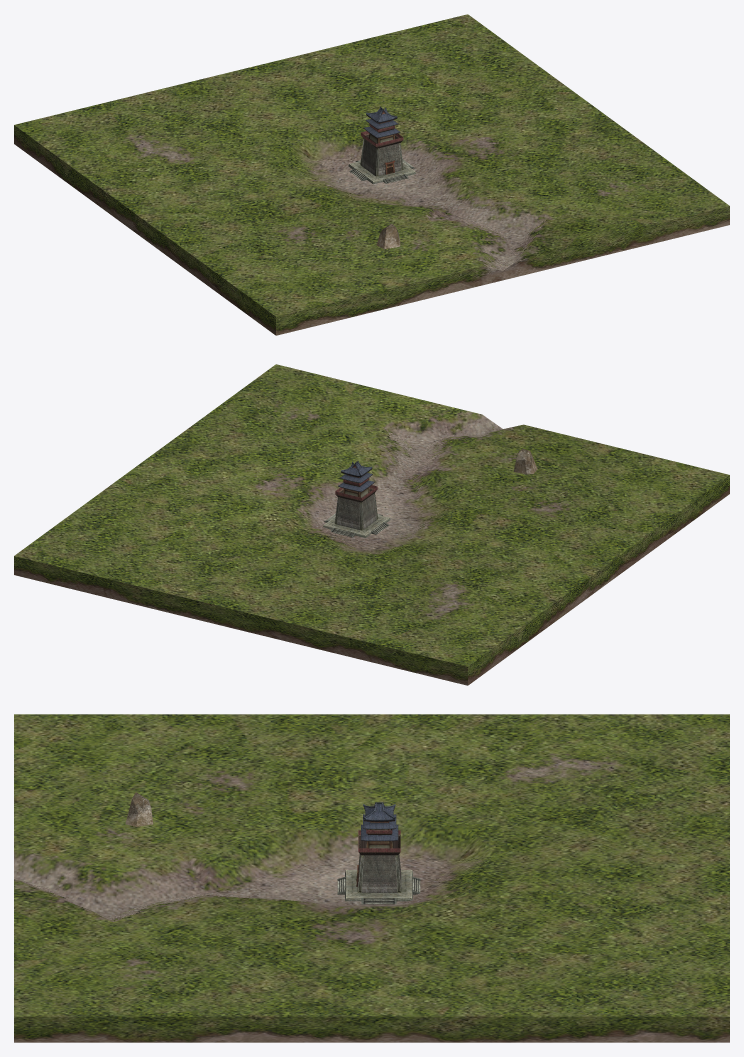
The model's file is map007.FBX.
3 renders of one model, top to bottom at view 1: azimuth 30°, elevation 25°; view 2: azimuth 150°, elevation 25°; view 3: azimuth 270°, elevation 25°, orthographic. The views are drawn at different scales.
Visible parts, largest first — view 1: map007, house006; view 2: map007, house006; view 3: map007, house006, Box045.
Boxes of the visible parts, x1,y1,x2,y2 form: map007: [14, 14, 729, 335]; house006: [348, 106, 415, 184]; map007: [14, 364, 729, 685]; house006: [323, 461, 390, 537]; map007: [14, 714, 729, 1042]; house006: [337, 802, 420, 904]; Box045: [125, 792, 153, 826].
Bounding box in the file's own units: 100 × 15.14 × 100.
